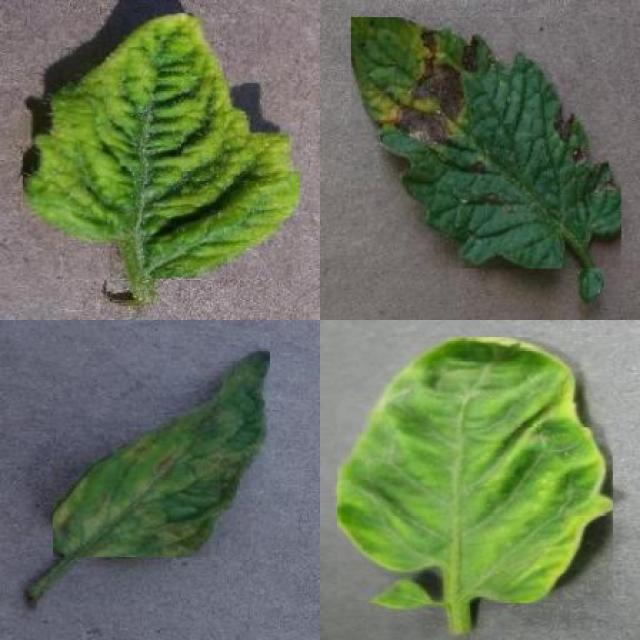Early Blight: (350, 17, 621, 269)
Leaf Mold: (54, 349, 270, 557)
Yellow Leaf Curl Virus: (23, 14, 300, 279), (337, 338, 613, 602)
